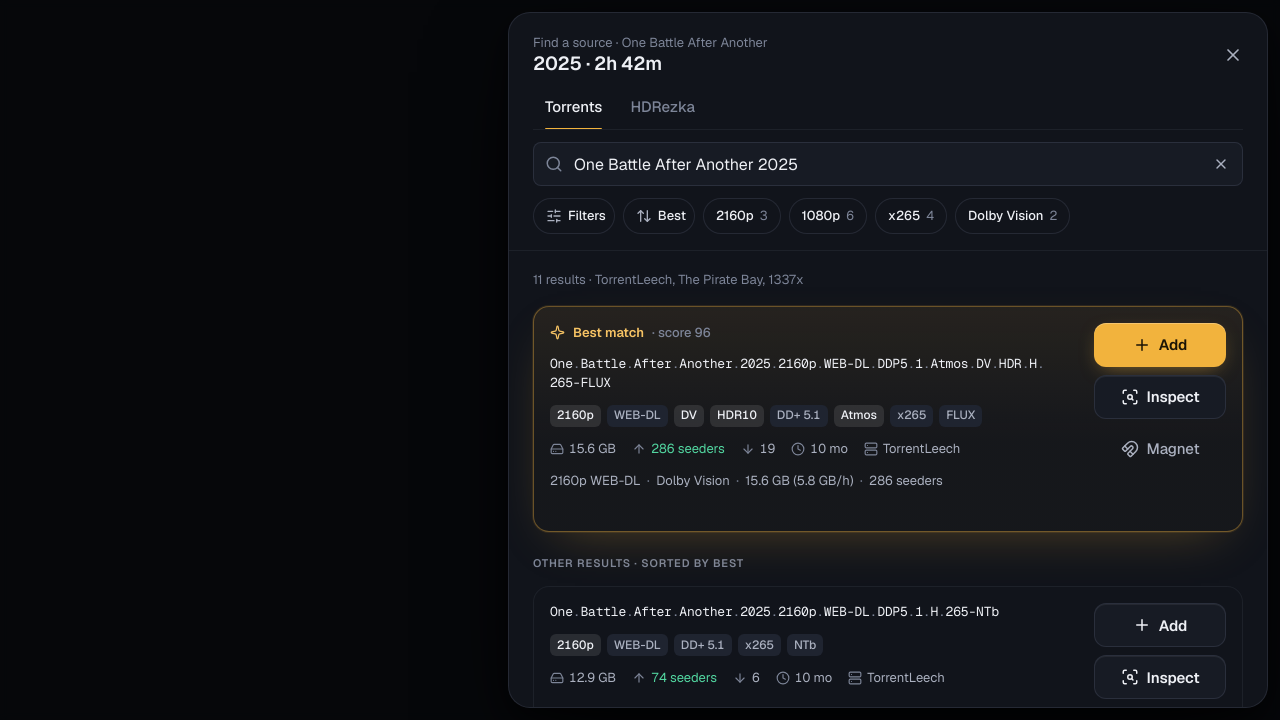
TorrentSearchSheet › copies a magnet and says so
This screenshot has width=1280, height=720.
Expected: the button with aria-label "Add & assign to movie" is shown, [1094, 323, 1226, 367]
Click the button with aria-label "Copy magnet link": point(1160, 449) [1094, 427, 1226, 471]
(page scrolled)
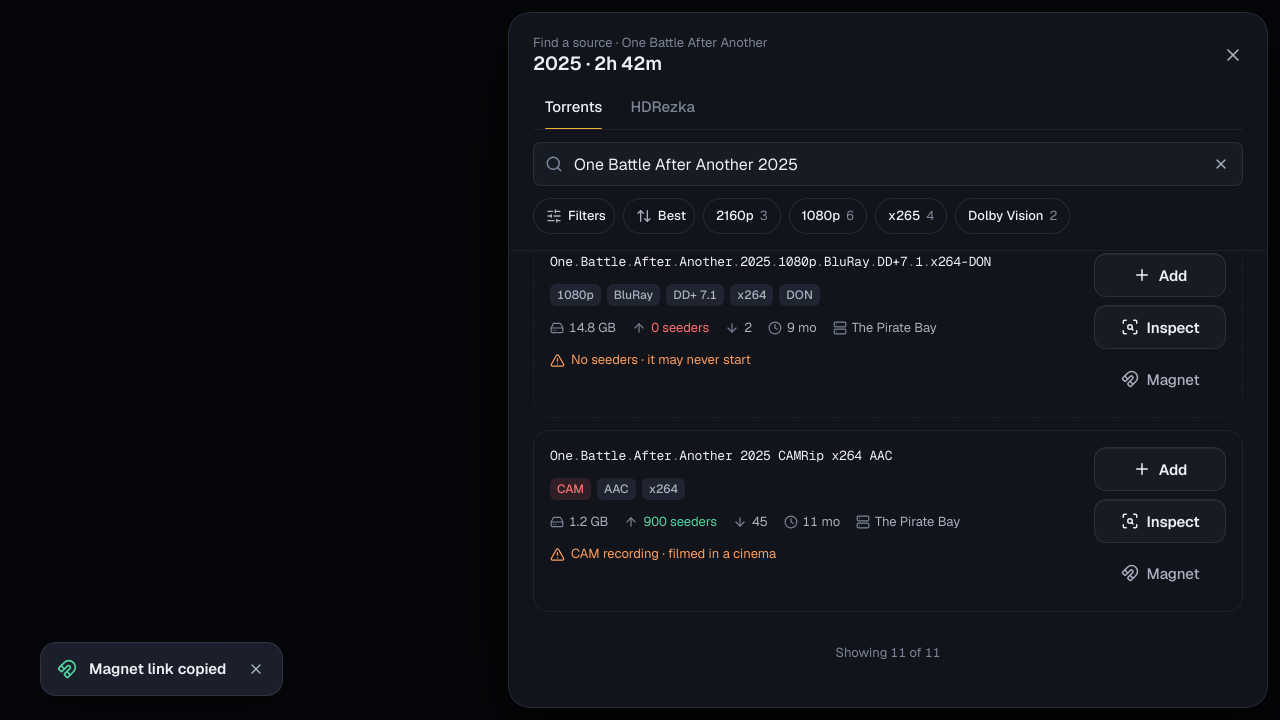
Result: the text "Magnet link copied" is shown at [89, 657, 226, 681]
Result: the element "CAMRip" shows "CAM recording · filmed in a cinema" at [571, 545, 776, 562]
